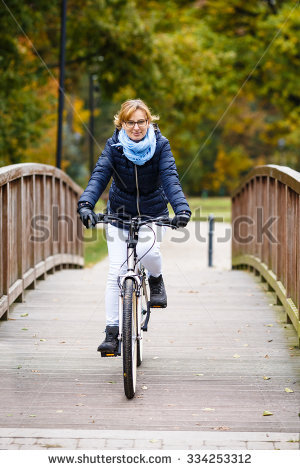bikerider: (63, 83, 228, 414)
